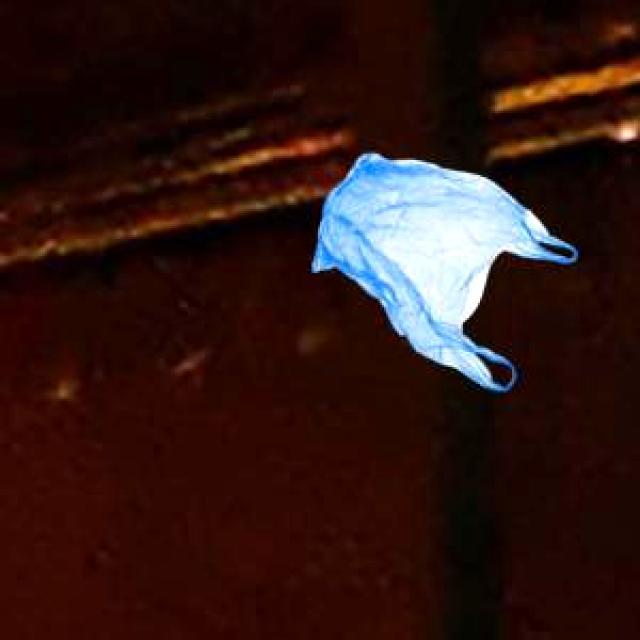Plastic_Bag: (310, 150, 571, 388)
